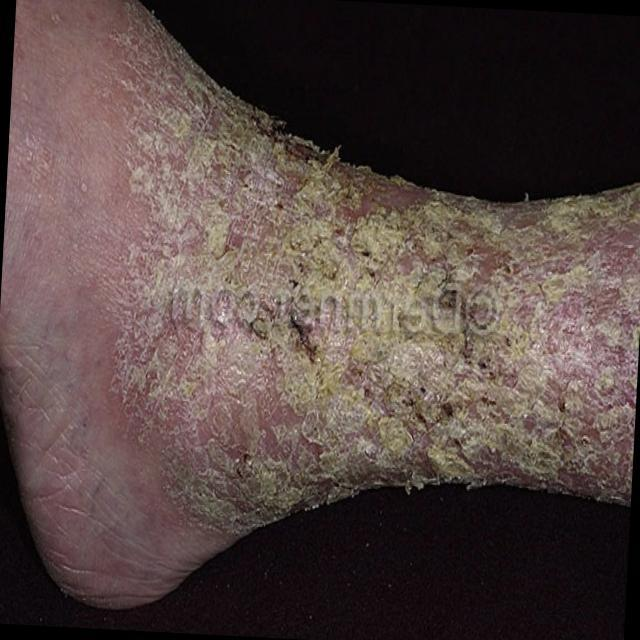Eczema: (107, 4, 638, 521)
